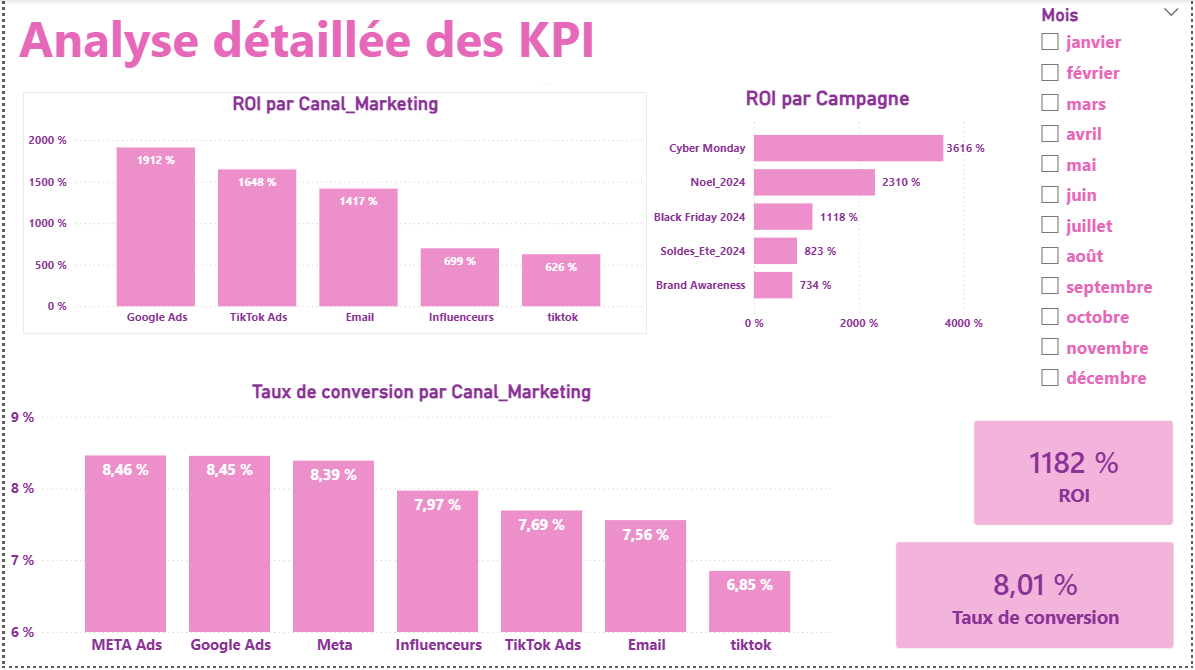

Layout of this report page (visuals, bound fields, positions):
{"tool":"powerbi","page":{"name":"Analyse_KPI","canvas":[1280,720],"ordinal":1},"visuals":[{"type":"columnChart","fields":{"Y":["raw_data (2).Taux de conversion"],"Category":["raw_data (2).Canal_Marketing"]},"box":[0,411.6,899.5,307.6],"z":0},{"type":"columnChart","fields":{"Y":["raw_data (2).ROI"],"Category":["raw_data (2).Canal_Marketing"]},"box":[19.1,99.7,674.7,261],"z":1},{"type":"textbox","box":[9.4,0,771,92.6],"z":2},{"type":"cardVisual","fields":{"Data":["raw_data (2).ROI"]},"box":[1029,437,250.3,148.5],"z":3},{"type":"slicer","fields":{"Values":["raw_data (2).Date.Variation.Hiérarchie de dates.Mois"]},"box":[1105.5,0,173.9,436.5],"z":4},{"type":"cardVisual","fields":{"Data":["raw_data (2).Taux de conversion"]},"box":[944.1,568.6,335.2,150.6],"z":5},{"type":"clusteredBarChart","title":"ROI par Campagne","fields":{"Category":["raw_data (2).Nom_Campagne"],"Y":["raw_data (2).ROI"]},"box":[693.8,93.3,390.4,273.7],"z":6}]}

Visuals, with their boxes in screenshot pixels (x1, y1, x2, y2), scaled from the page's 1280x720 canvas onto the 1195x670 screenshot:
columnChart - raw_data (2).Taux de conversion x raw_data (2).Canal_Marketing: (0,383,840,669)
columnChart - raw_data (2).ROI x raw_data (2).Canal_Marketing: (18,93,648,336)
textbox: (9,0,729,86)
cardVisual - raw_data (2).ROI: (961,407,1194,545)
slicer - raw_data (2).Date.Variation.Hiérarchie de dates.Mois: (1032,0,1194,406)
cardVisual - raw_data (2).Taux de conversion: (881,529,1194,669)
"ROI par Campagne" clusteredBarChart: (648,87,1012,342)
